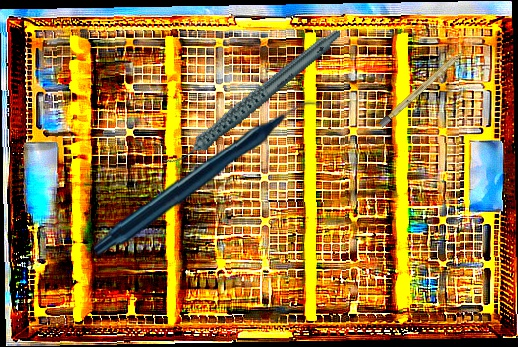Handpiece: (93, 95, 321, 261), (143, 28, 362, 170)
Scalpel Handle: (378, 47, 467, 128)
